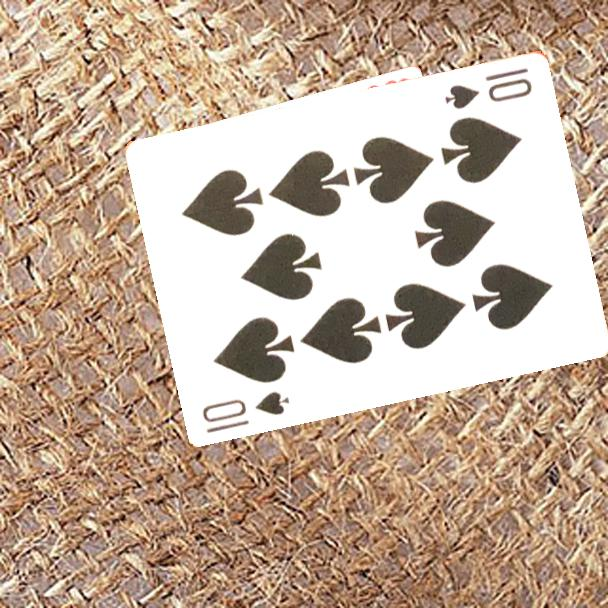s10: (441, 63, 536, 112), (199, 387, 293, 436)
